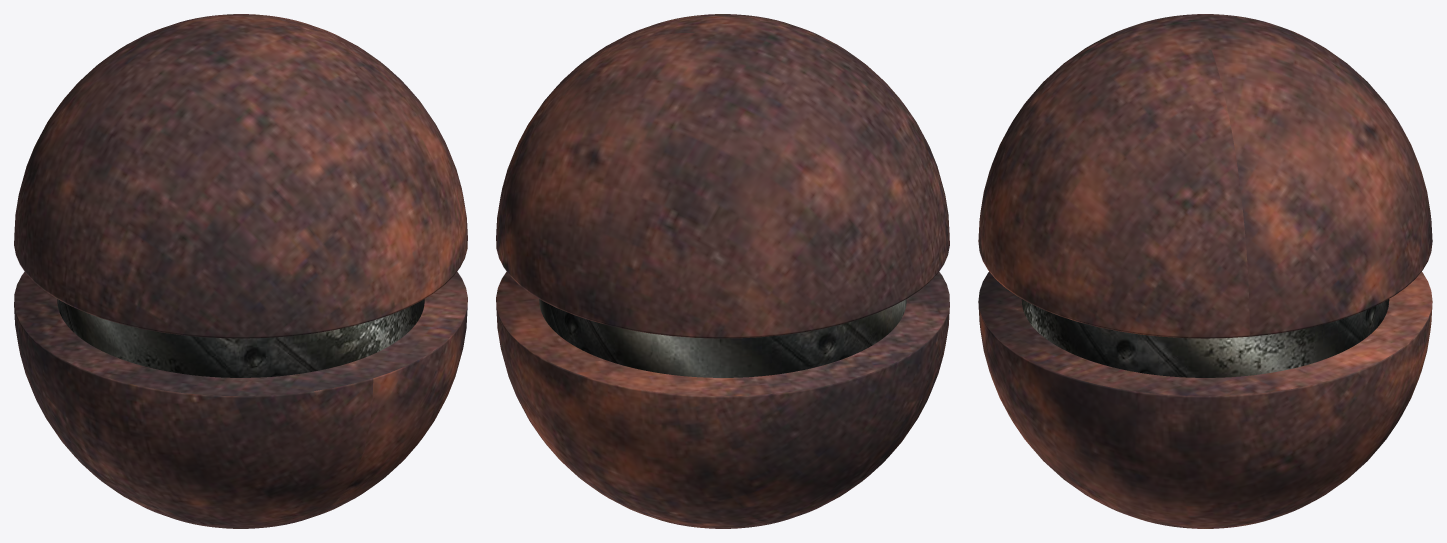
Rendered from droid_anim_000013.obj.
3 views of the same model, side by side, from view 1: azimuth 30°, elevation 25°; view 2: azimuth 150°, elevation 25°; view 3: azimuth 270°, elevation 25° (orthographic).
Parts seen in each view (by area): view 1: Sphere.004, Sphere.005, Cylinder.002; view 2: Sphere.004, Sphere.005, Cylinder.002; view 3: Sphere.004, Sphere.005, Cylinder.002.
Part boxes in pixels (x1,y1,x2,y2): Sphere.004: (14, 14, 467, 338); Sphere.005: (14, 271, 467, 528); Cylinder.002: (57, 299, 424, 377); Sphere.004: (496, 14, 949, 338); Sphere.005: (496, 271, 949, 528); Cylinder.002: (539, 299, 906, 377); Sphere.004: (978, 14, 1432, 338); Sphere.005: (978, 272, 1432, 528); Cylinder.002: (1021, 299, 1389, 377).
Size of the model in its own units: 2 by 2.3 by 2.
3 materials, 3 textured.
